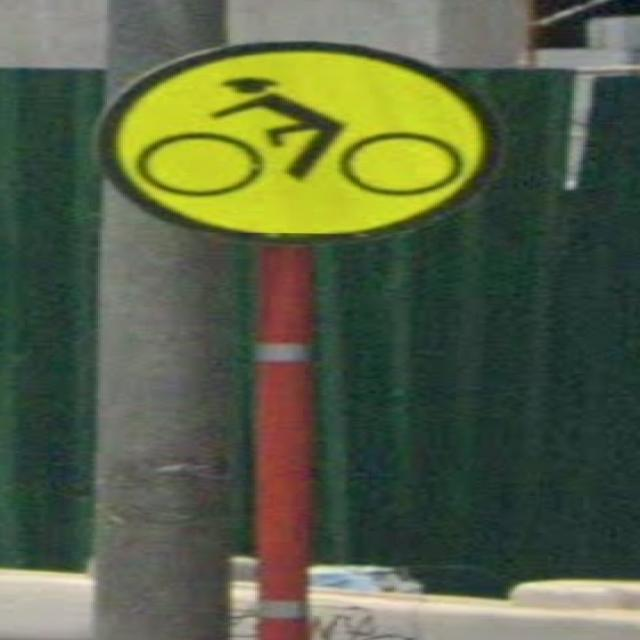bike lane: (91, 41, 494, 242)
